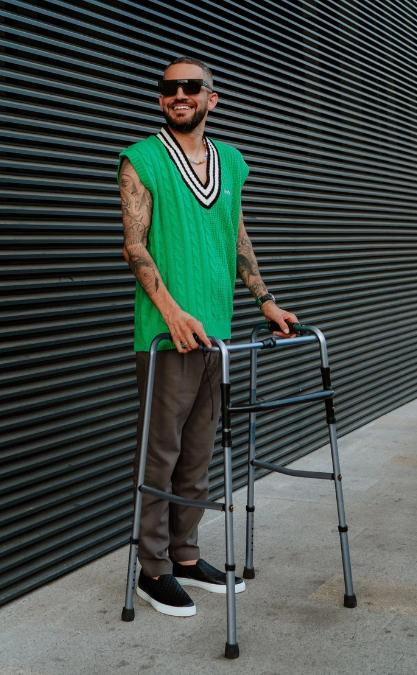walking_frame: (115, 57, 357, 659)
